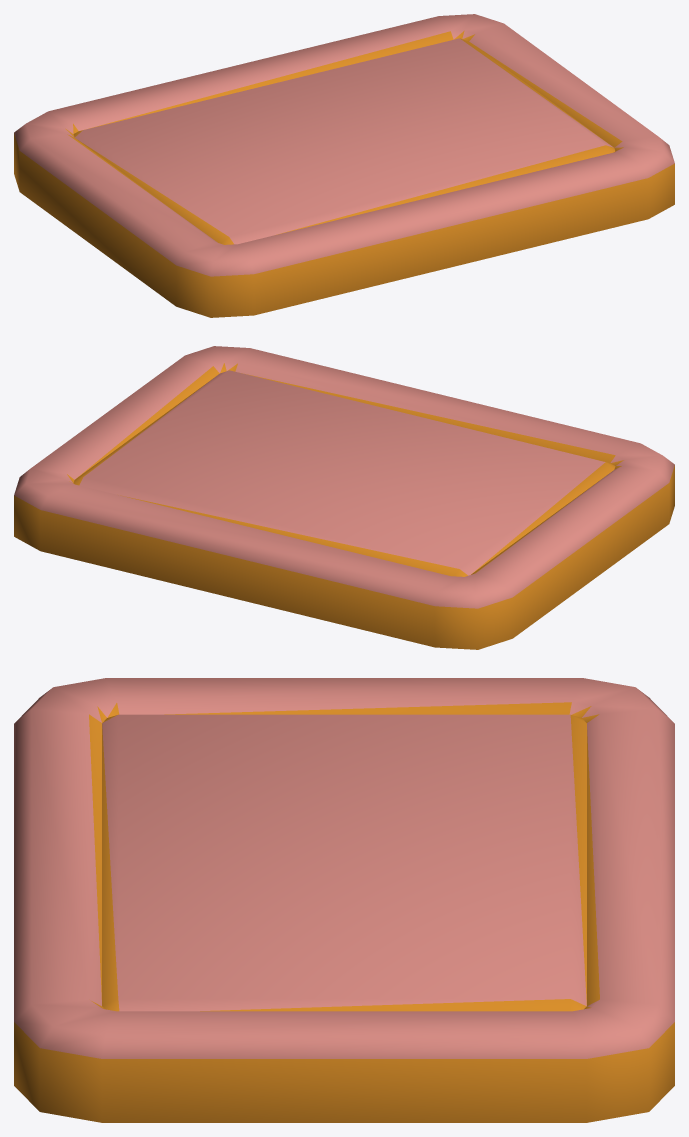
Rendered from itch_tiny_pleasant_picnic_serving_tray_square_a.glb.
3 renders of one model, top to bottom at view 1: azimuth 30°, elevation 25°; view 2: azimuth 150°, elevation 25°; view 3: azimuth 270°, elevation 25°, orthographic. The views are drawn at different scales.
Visible parts, largest first — view 1: serving_tray_square_A; view 2: serving_tray_square_A; view 3: serving_tray_square_A.
Part boxes in pixels (bbox=[...]): serving_tray_square_A: bbox=[14, 14, 674, 317]; serving_tray_square_A: bbox=[14, 346, 674, 649]; serving_tray_square_A: bbox=[14, 678, 674, 1122].
Size of the model in its own units: 0.96 by 0.096 by 0.72.
